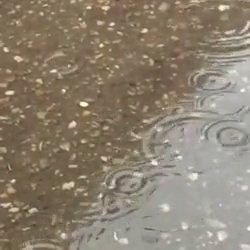drop: (144, 111, 224, 176), (171, 1, 249, 61), (204, 119, 250, 152), (197, 91, 249, 119), (105, 168, 148, 198), (189, 68, 238, 93), (43, 51, 80, 78), (20, 240, 63, 250)
